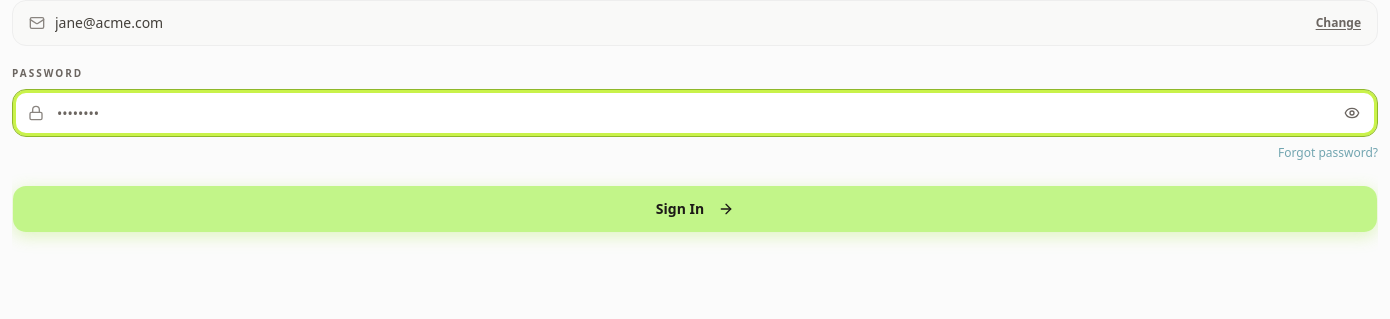
Test: PasswordStep › tells a user of a suspended workspace why they cannot sign in
In the password field labelled "Password": [695, 113] box [12, 89, 1378, 137], type "hunter2"
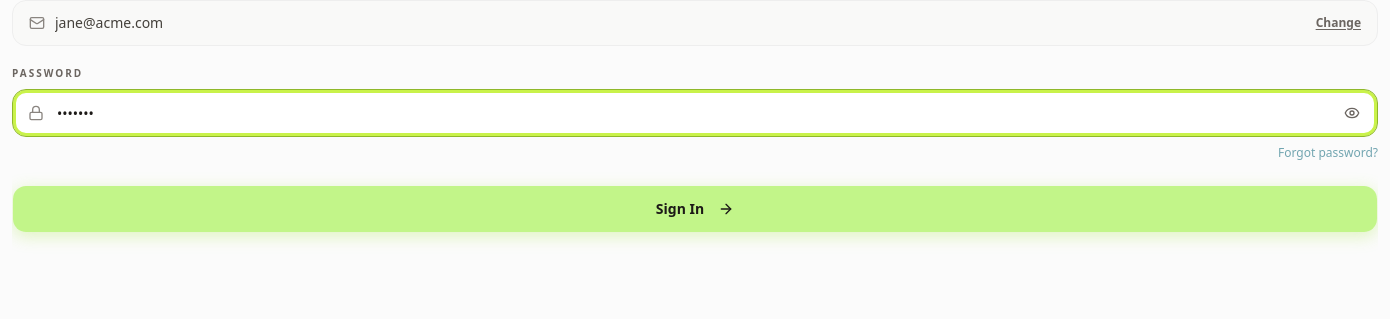
Click the button "Sign In": [695, 209] box [12, 185, 1378, 233]
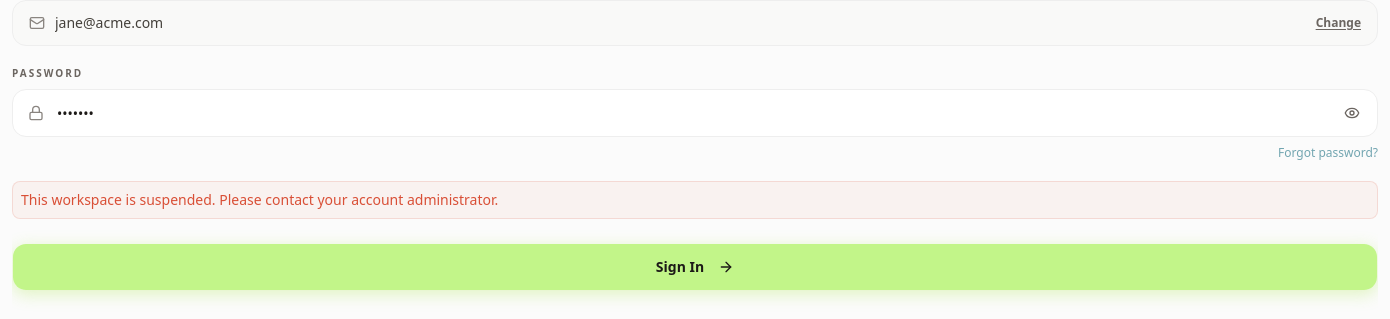
Result: the text "This workspace is suspended. Please contact your account administrator." is shown at [12, 181, 1378, 219]
